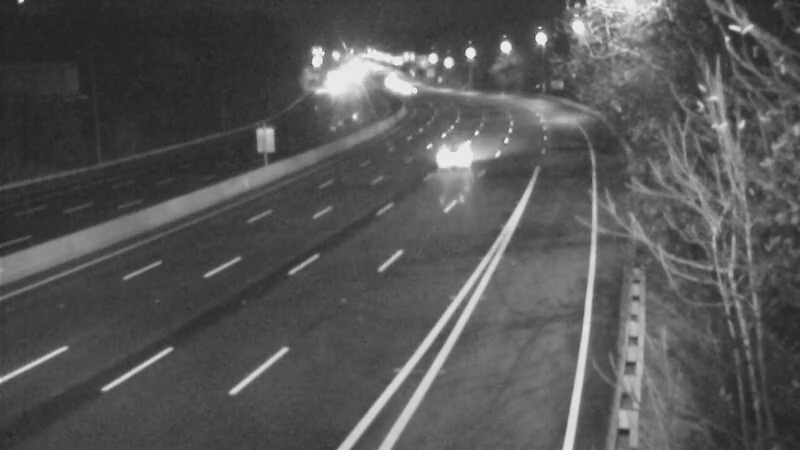vehicle: (416, 120, 496, 200), (384, 66, 434, 116)
